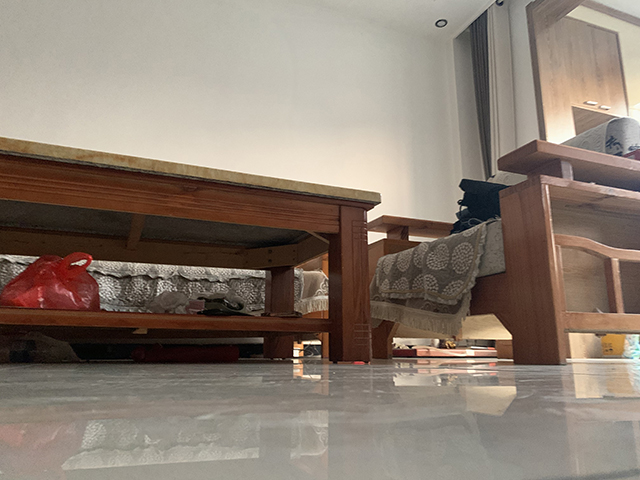sofa: (369, 115, 640, 364)
table: (1, 135, 381, 365)
